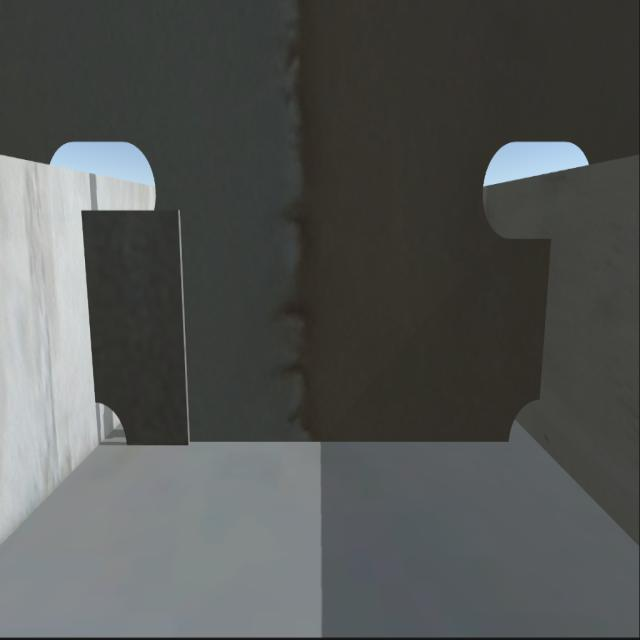fillet_hole: (505, 390, 546, 444), (93, 398, 132, 447)
fillet_yong_jeop_jang: (128, 433, 514, 447)
longi_yong_jeop_jang: (82, 198, 100, 398), (535, 240, 554, 397)
plate_CP01: (88, 201, 184, 436)
